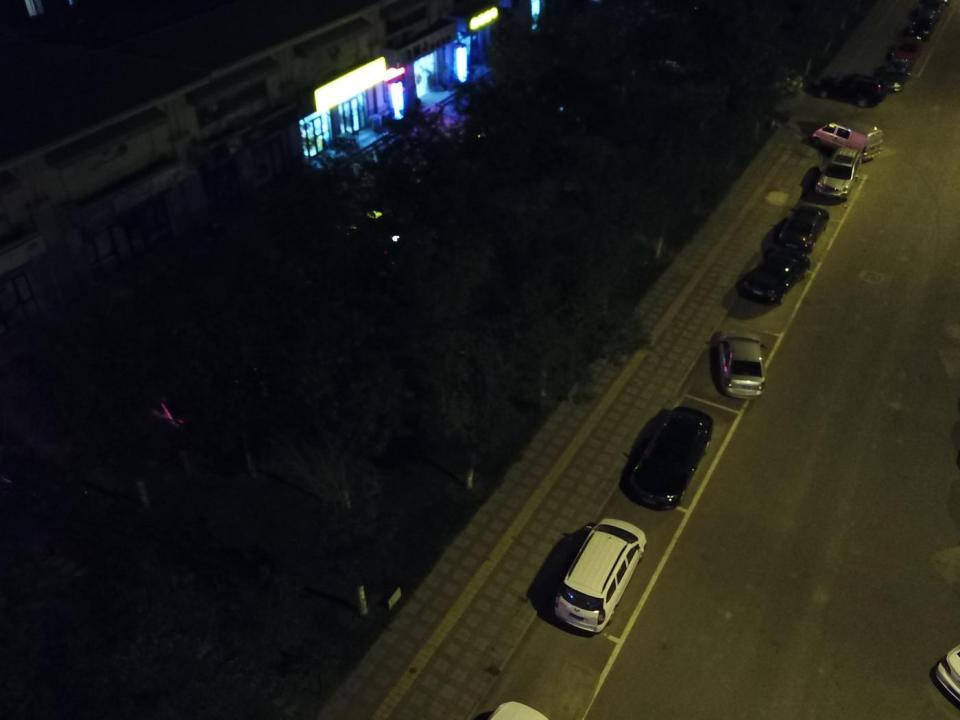car: (553, 517, 646, 632), (629, 406, 714, 510), (740, 247, 811, 305), (719, 330, 765, 400), (813, 72, 886, 109), (814, 146, 861, 200), (778, 205, 831, 250), (880, 62, 908, 92), (892, 36, 922, 64), (908, 17, 932, 41), (920, 0, 943, 23)
van: (812, 121, 884, 162)
